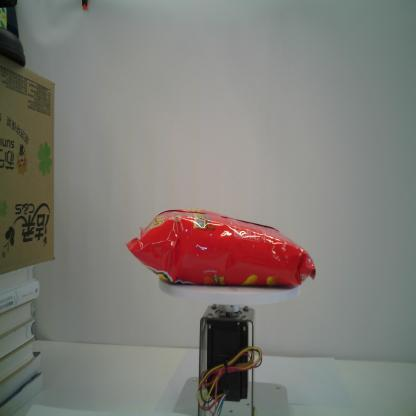Puffed Food: (122, 206, 319, 289)
